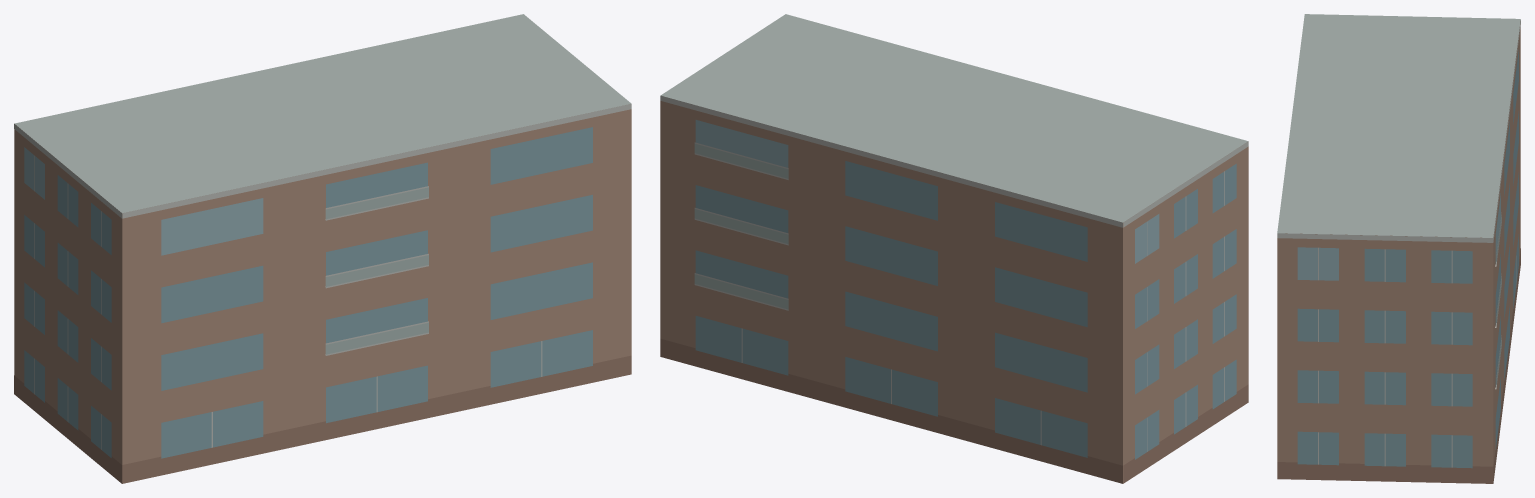
The model's file is residential-ffe9103c-f49e-474b-9fd8-7ddcf2e81812.glb.
3 views of the same model, side by side, from view 1: azimuth 30°, elevation 25°; view 2: azimuth 150°, elevation 25°; view 3: azimuth 270°, elevation 25° (orthographic). The views are drawn at different scales.
Visible parts, largest first — view 1: residential-ffe9103c-f49e-474b-9fd8-7ddcf2e81812.tmp; view 2: residential-ffe9103c-f49e-474b-9fd8-7ddcf2e81812.tmp; view 3: residential-ffe9103c-f49e-474b-9fd8-7ddcf2e81812.tmp.
Part boxes in pixels (x1,y1,x2,y2): residential-ffe9103c-f49e-474b-9fd8-7ddcf2e81812.tmp: (14,14,631,483); residential-ffe9103c-f49e-474b-9fd8-7ddcf2e81812.tmp: (660,14,1248,483); residential-ffe9103c-f49e-474b-9fd8-7ddcf2e81812.tmp: (1277,14,1520,483).
Size of the model in its own units: 23.85 by 12.2 by 10.97.
